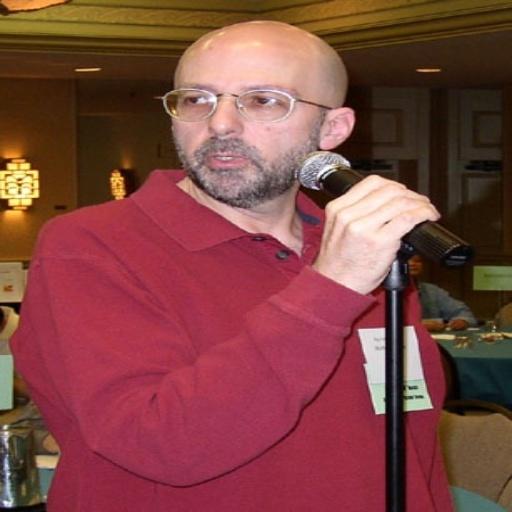hand: (320, 168, 428, 291), (445, 318, 470, 332), (423, 320, 446, 333)
